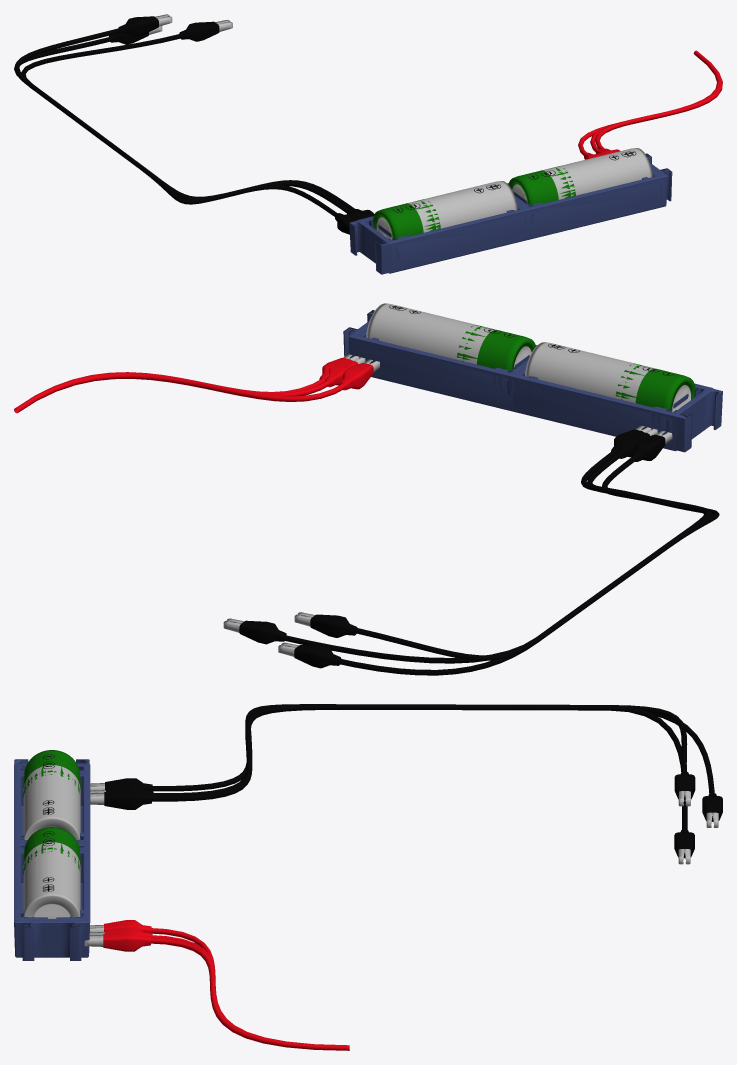
File: Battery2new.glb
3 renders of one model, top to bottom at view 1: azimuth 30°, elevation 25°; view 2: azimuth 150°, elevation 25°; view 3: azimuth 270°, elevation 25°, orthographic. The views are drawn at different scales.
Visible parts, largest first — view 1: Battery.004, Battery.001, Battery.006, buzzer-red-cable, fan-red-cable, light-red, buzzer-black, fan-black-cable; view 2: Battery.001, Battery.004, fan-red-cable, buzzer-red-cable, light-red, Battery.006, fan-black-cable, light-black, buzzer-black; view 3: Battery.001, buzzer-red-cable, fan-red-cable, Battery.006, Battery.004, light-red, buzzer-black, fan-black-cable, light-black.
Boxes of the visible parts, box(x1,y1,x2,y2) form: Battery.004: box(349, 155, 654, 274); Battery.001: box(369, 148, 672, 243); Battery.006: box(365, 152, 667, 268); buzzer-red-cable: box(21, 19, 374, 217); fan-red-cable: box(14, 26, 357, 234); light-red: box(14, 14, 364, 219); buzzer-black: box(595, 52, 722, 152); fan-black-cable: box(578, 50, 719, 159); Battery.001: box(343, 303, 699, 436); Battery.004: box(363, 310, 722, 452); fan-red-cable: box(278, 430, 719, 675); buzzer-red-cable: box(223, 425, 708, 663); light-red: box(294, 427, 712, 660); Battery.006: box(349, 306, 704, 433); fan-black-cable: box(14, 359, 379, 412); light-black: box(14, 356, 365, 412); buzzer-black: box(14, 353, 359, 413); Battery.001: box(14, 764, 90, 960); buzzer-red-cable: box(90, 704, 694, 864); fan-red-cable: box(90, 704, 722, 827); Battery.006: box(14, 761, 90, 926); Battery.004: box(14, 750, 90, 917); light-red: box(90, 704, 695, 806); buzzer-black: box(84, 930, 349, 1050); fan-black-cable: box(90, 920, 349, 1050); light-black: box(89, 927, 349, 1050).
Size of the model in its own units: 8.05 by 0.6655 by 7.53.
57 materials, 6 textured.
